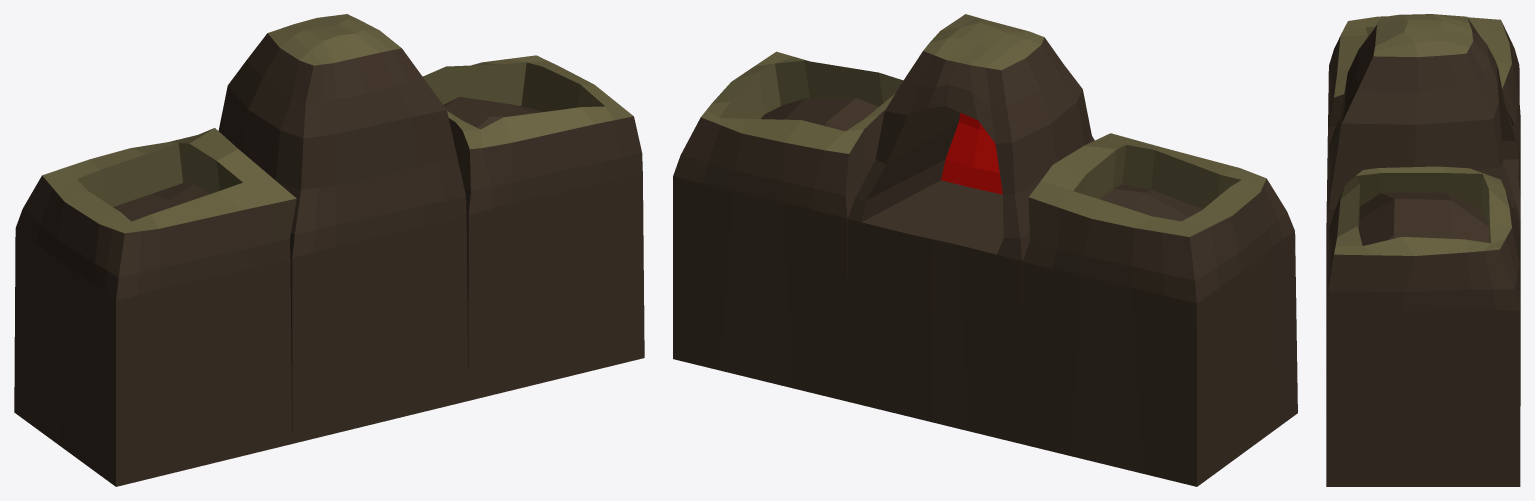
File: EnemyBaseTile.fbx
3 renders of one model, left to right at view 1: azimuth 30°, elevation 25°; view 2: azimuth 150°, elevation 25°; view 3: azimuth 270°, elevation 25°, orthographic. The views are drawn at different scales.
Parts seen in each view (by area): view 1: EnemyBaseTile; view 2: EnemyBaseTile; view 3: EnemyBaseTile.
Boxes of the visible parts, x1=… form: EnemyBaseTile: x1=14, y1=14, x2=644, y2=486; EnemyBaseTile: x1=673, y1=14, x2=1297, y2=486; EnemyBaseTile: x1=1326, y1=14, x2=1520, y2=486.
Bounding box in the file's own units: 301 × 193 × 100.
